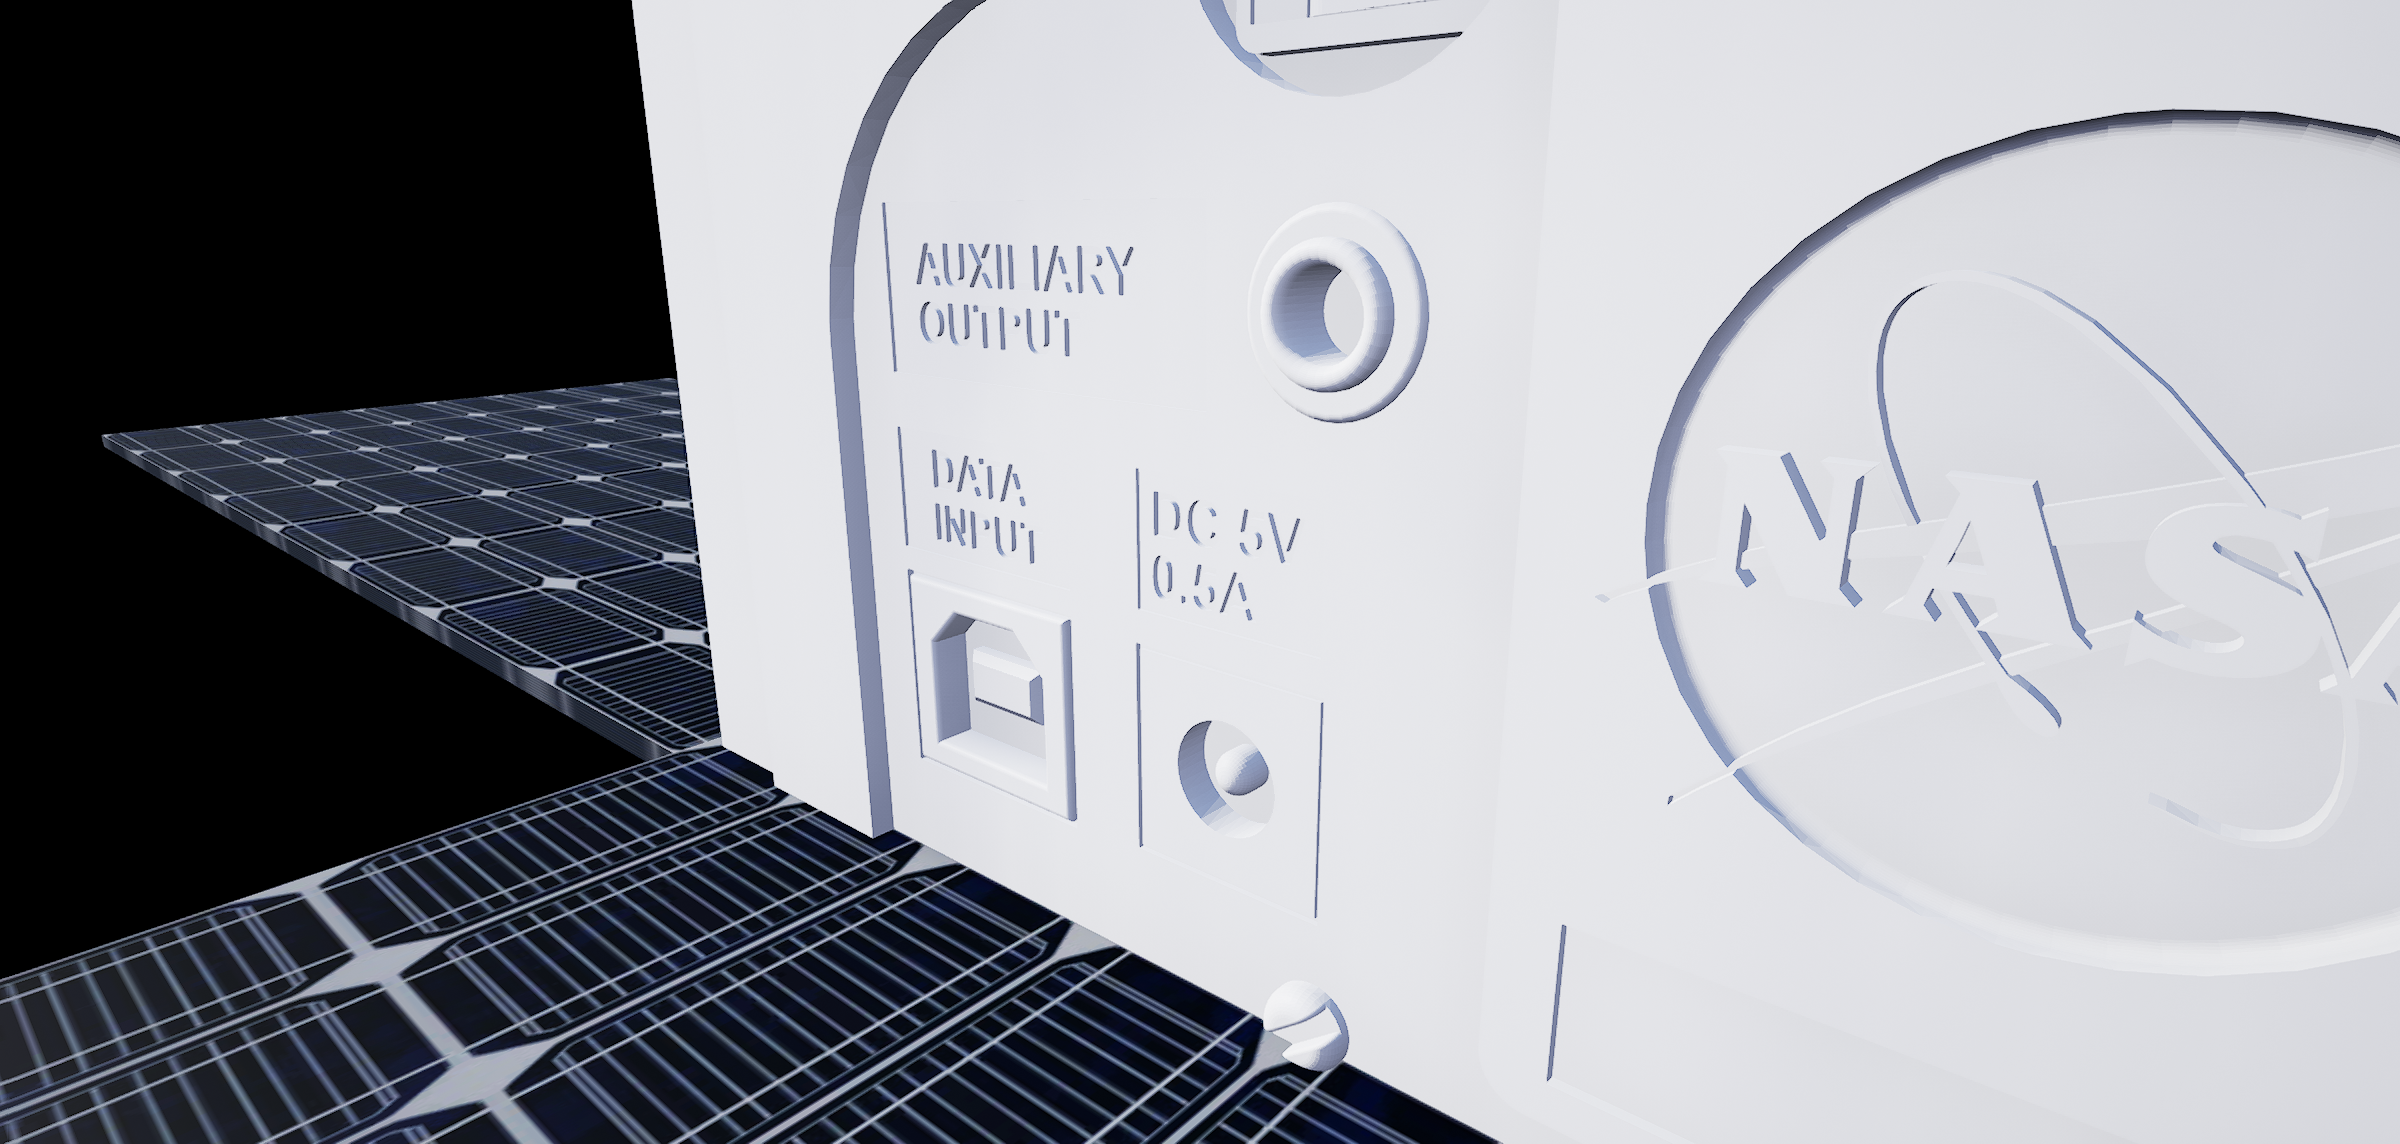aux: (1226, 185, 1456, 461)
dc: (1160, 706, 1281, 848)
usb: (928, 608, 1044, 790)
